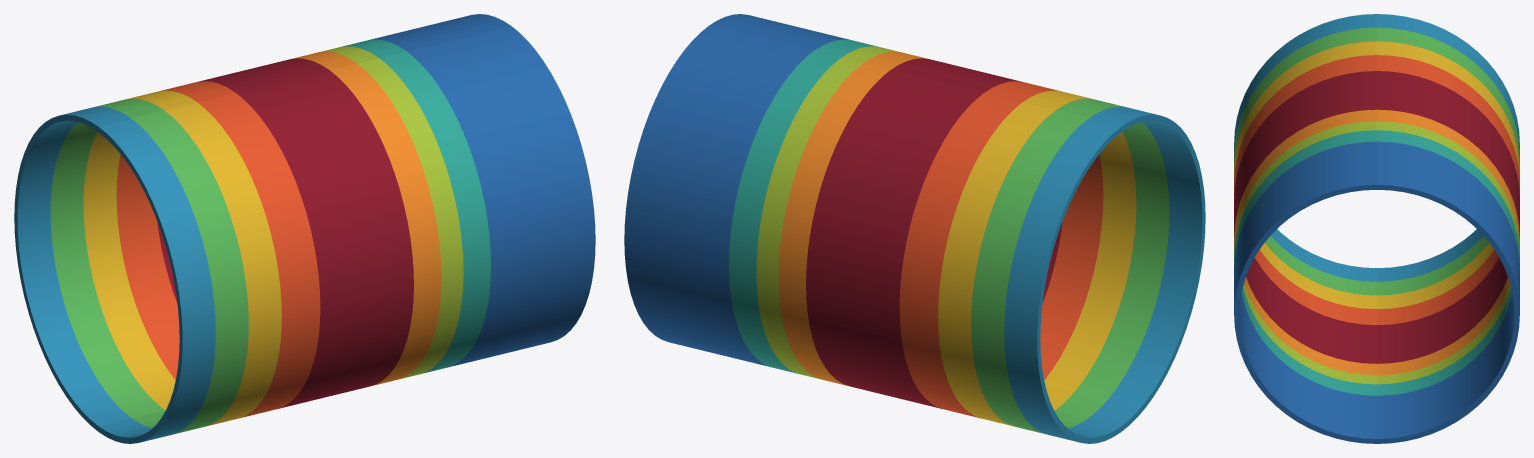
The model's file is gas_turbine_pressure.glb.
3 renders of one model, left to right at view 1: azimuth 30°, elevation 25°; view 2: azimuth 150°, elevation 25°; view 3: azimuth 270°, elevation 25°, orthographic. The views are drawn at different scales.
Parts seen in each view (by area): view 1: bands__front, bands__back; view 2: bands__back, bands__front; view 3: bands__back, bands__front.
Boxes of the visible parts, x1,y1,x2,y2 form: bands__front: (98,26,595,443); bands__back: (14,14,510,431); bands__back: (624,26,1121,443); bands__front: (709,14,1205,431); bands__back: (1377,14,1519,443); bands__front: (1234,14,1376,443).
Size of the model in its own units: 1.5 by 1.06 by 1.06.
